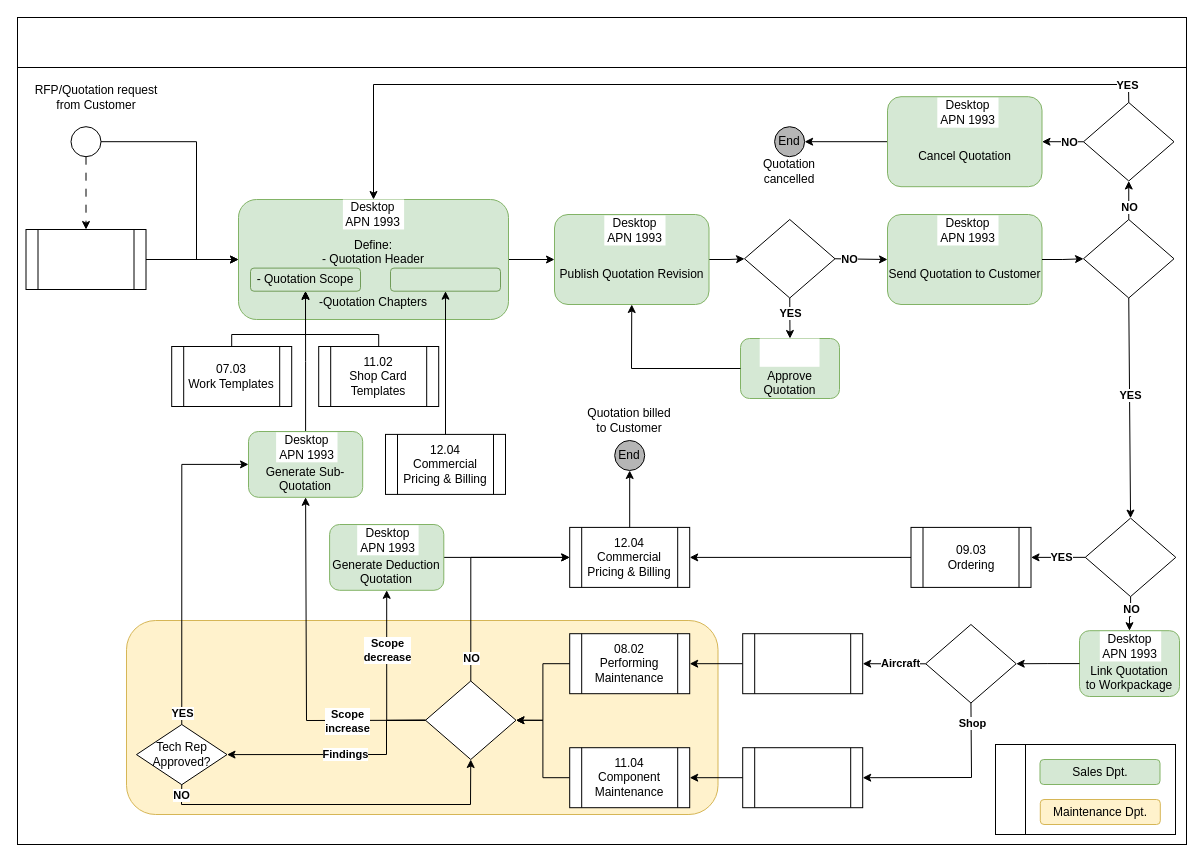
Some shapes in this 1204 by 862 pixel diagram are drawn without their labels. The shapes that lost their labels are listed below. From the top down, each one's centre as x and y in pixels, then its label:
(x=601, y=42): 12.05b Customer Quotations
(x=85, y=141): Start
(x=1128, y=141): Is open for negotiations?
(x=85, y=259): 12.05a Customer CRM
(x=789, y=258): Internal Approval needed?
(x=1128, y=258): Customer approved Quotation?
(x=445, y=279): - Quotation Pricing
(x=789, y=352): Desktop APN 2110
(x=1130, y=557): Material Supply Quotation?
(x=802, y=663): 07.06 Customer MRO Workpackages
(x=970, y=663): Maintenance Quotation?
(x=470, y=720): Scope change?
(x=802, y=777): 10.07 Customer Material
(x=1010, y=789): LEGEND
